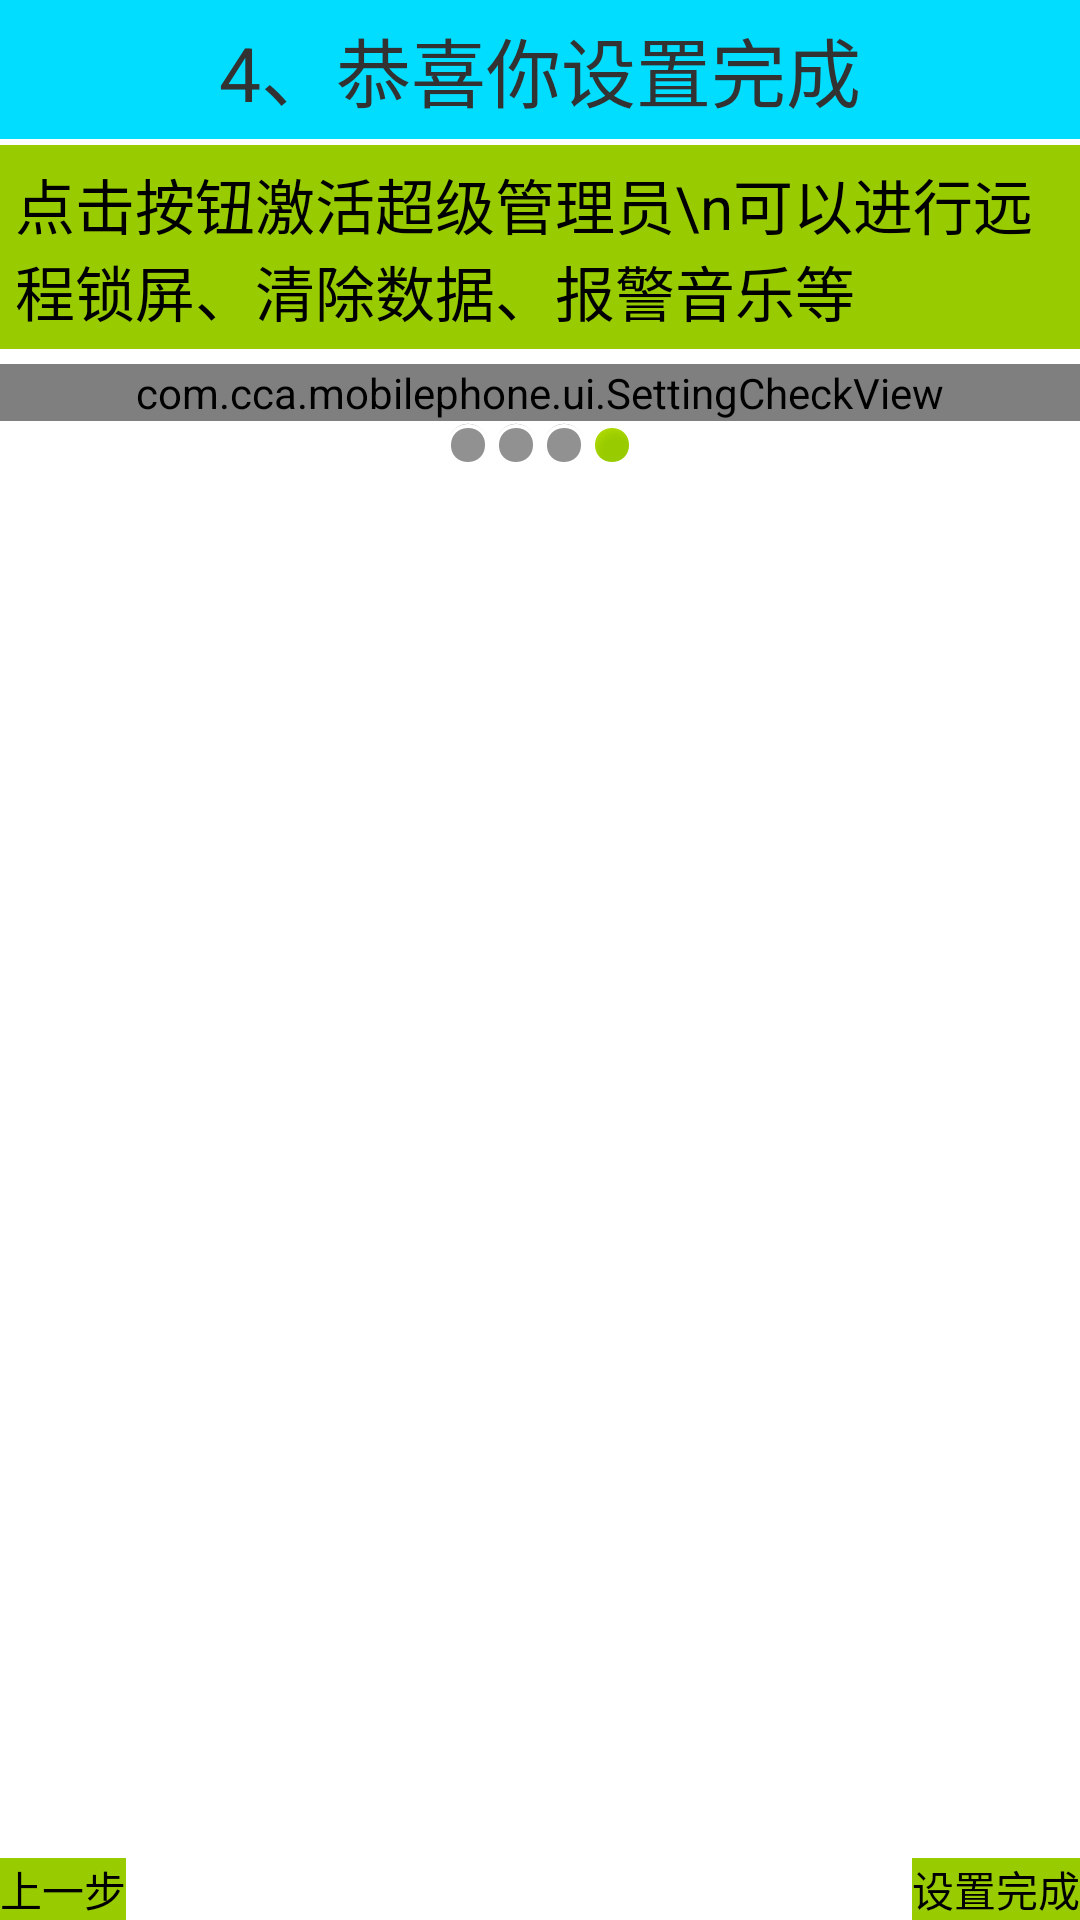

Icons on this 1080w x 1920h Android screen, each with its box as (x1, y1, x2, y2):
presence invisible: (451, 424, 485, 462), (499, 424, 533, 462), (547, 424, 581, 462)
presence online: (595, 428, 629, 462)
